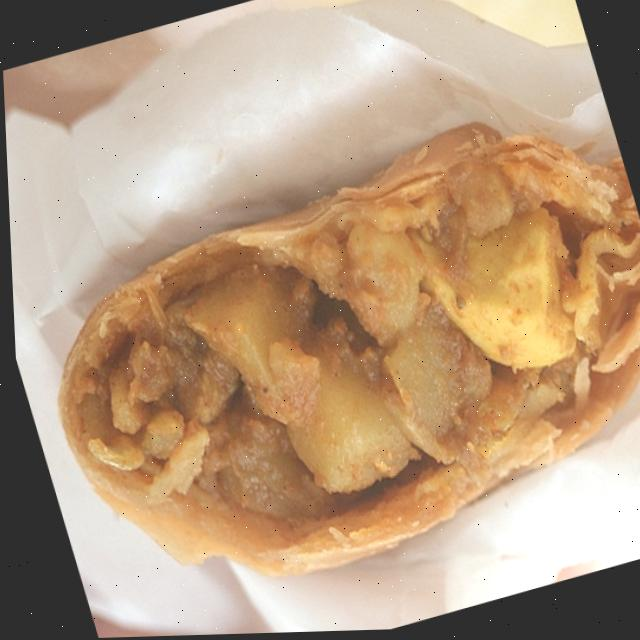炸货点心: (3, 65, 640, 640)
